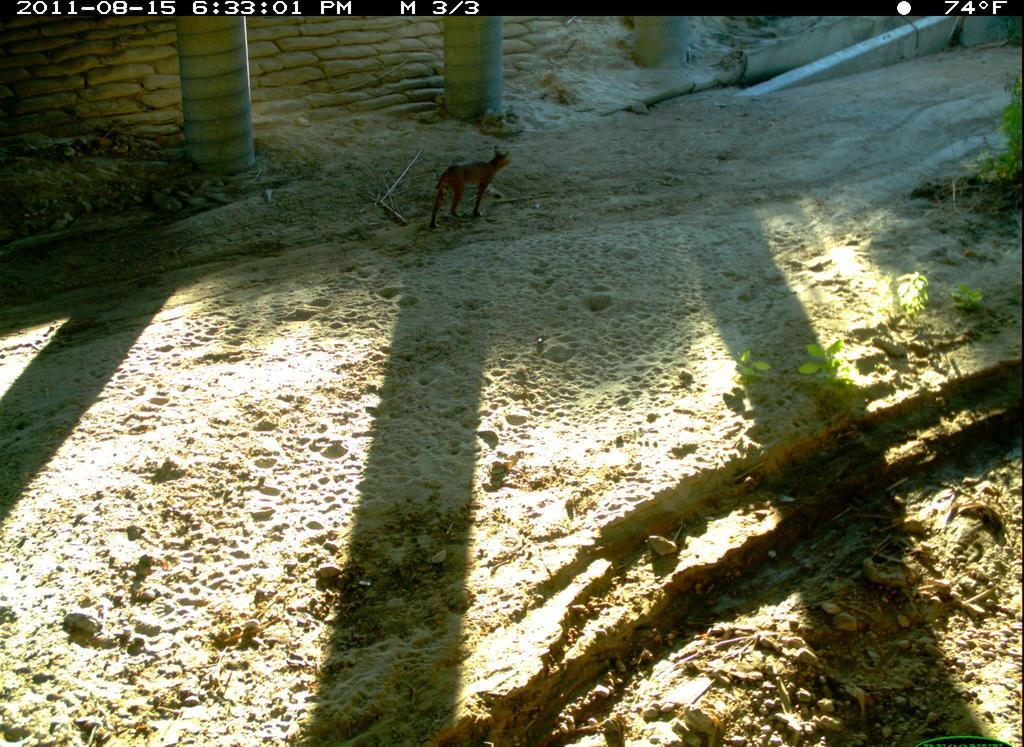bobcat: (415, 137, 520, 239)
